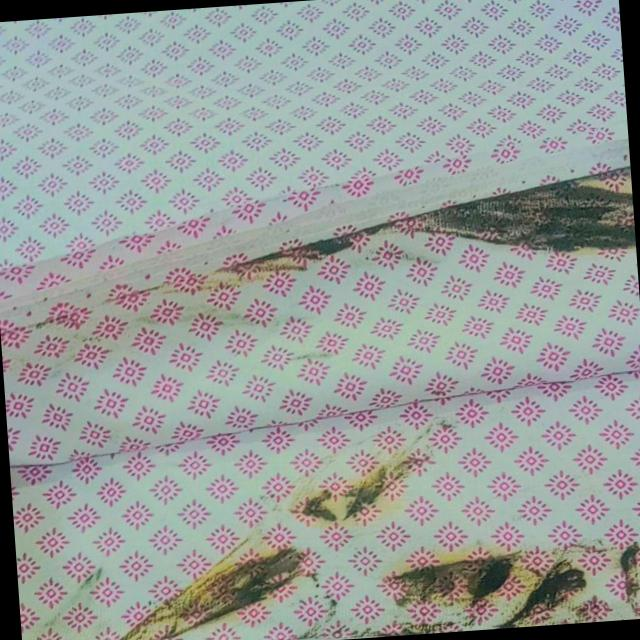stain: (167, 162, 636, 288), (368, 537, 640, 637), (105, 534, 325, 640), (288, 444, 436, 532)
